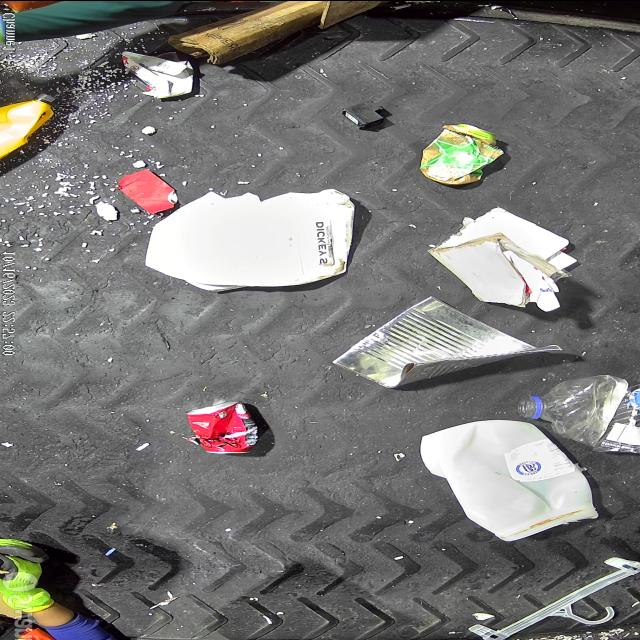can: (184, 400, 258, 453)
milk_jug: (420, 418, 600, 540)
non_white_jug: (0, 90, 57, 163)
plastic_bottle: (518, 374, 640, 454)
